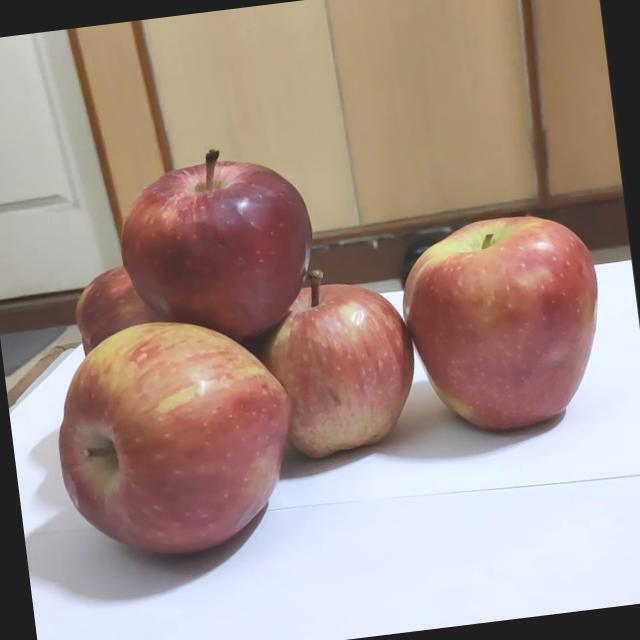apple: (62, 348, 338, 627), (388, 209, 640, 491), (115, 155, 358, 400), (254, 290, 456, 510), (52, 277, 261, 439)
